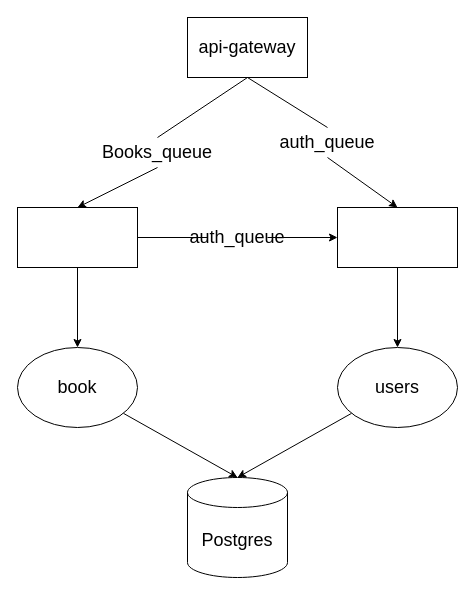
The diagram is 475 pixels wide and 595 high, and some of its shapes have lost their labels. The shapes that lost their labels are listed below. From the top down, each one's centre as x and y in pixels, then its label:
[77,237]: books-service
[397,237]: auth-service
